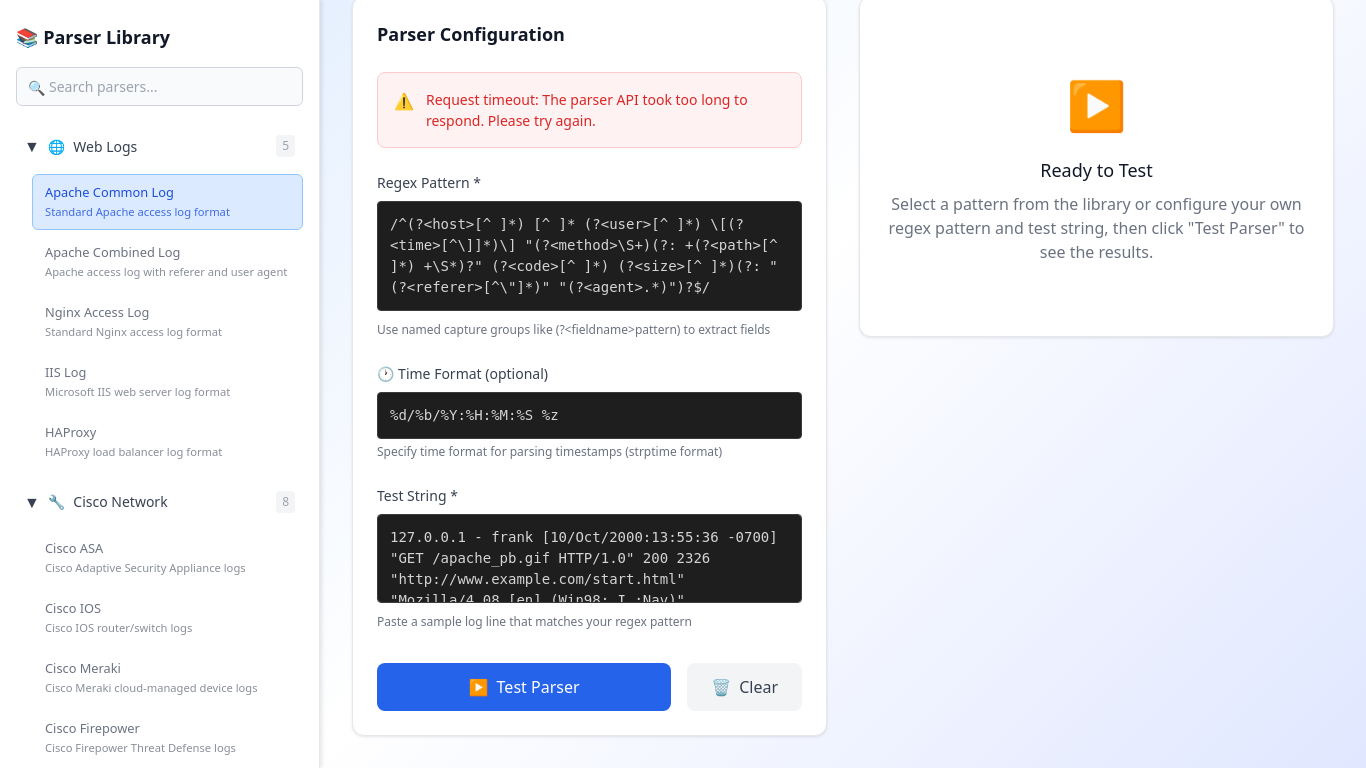
ParserTester › API Integration › handles API server errors
This screenshot has width=1366, height=768.
(page scrolled)
Click the button "▶️ Test Parser" at {"x": 524, "y": 687}, box [377,663,671,711]
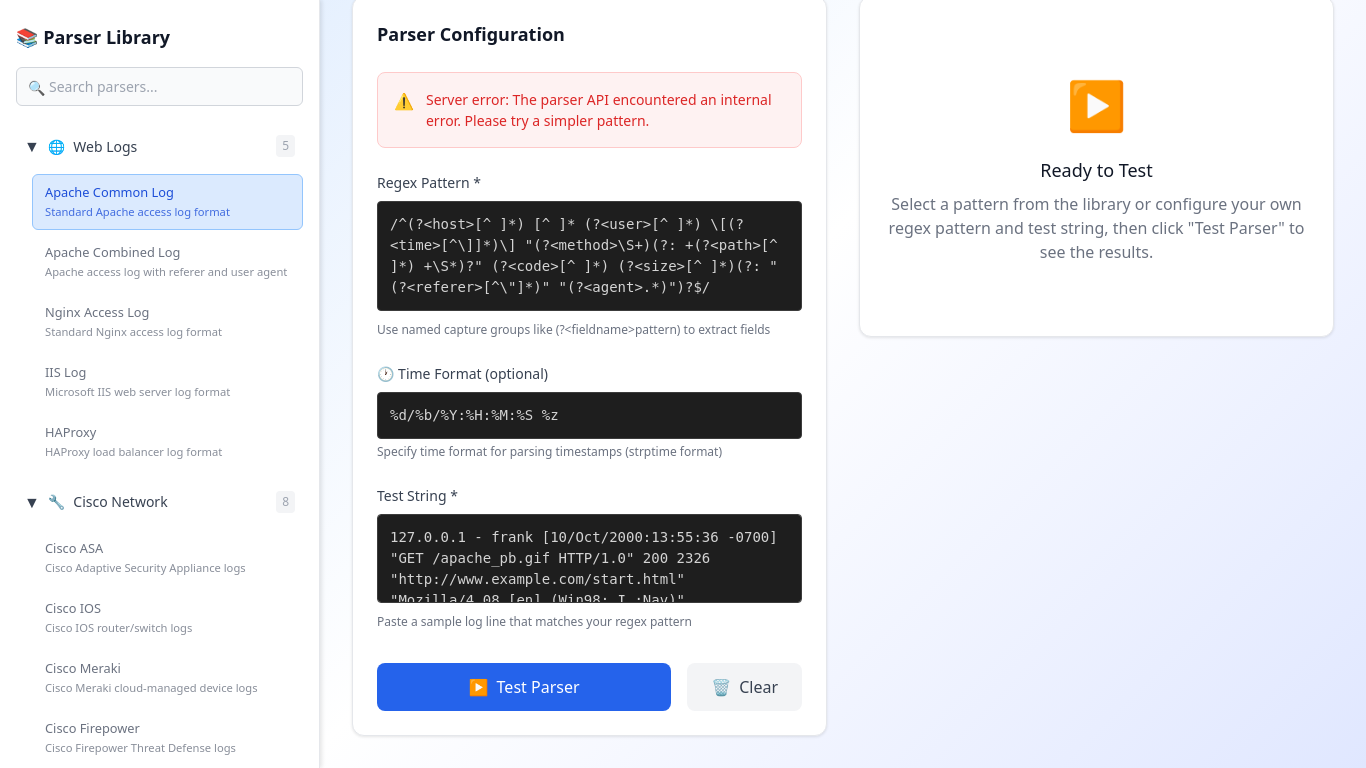
expect the text "Server error" is shown: met, box [426,90,772,130]
